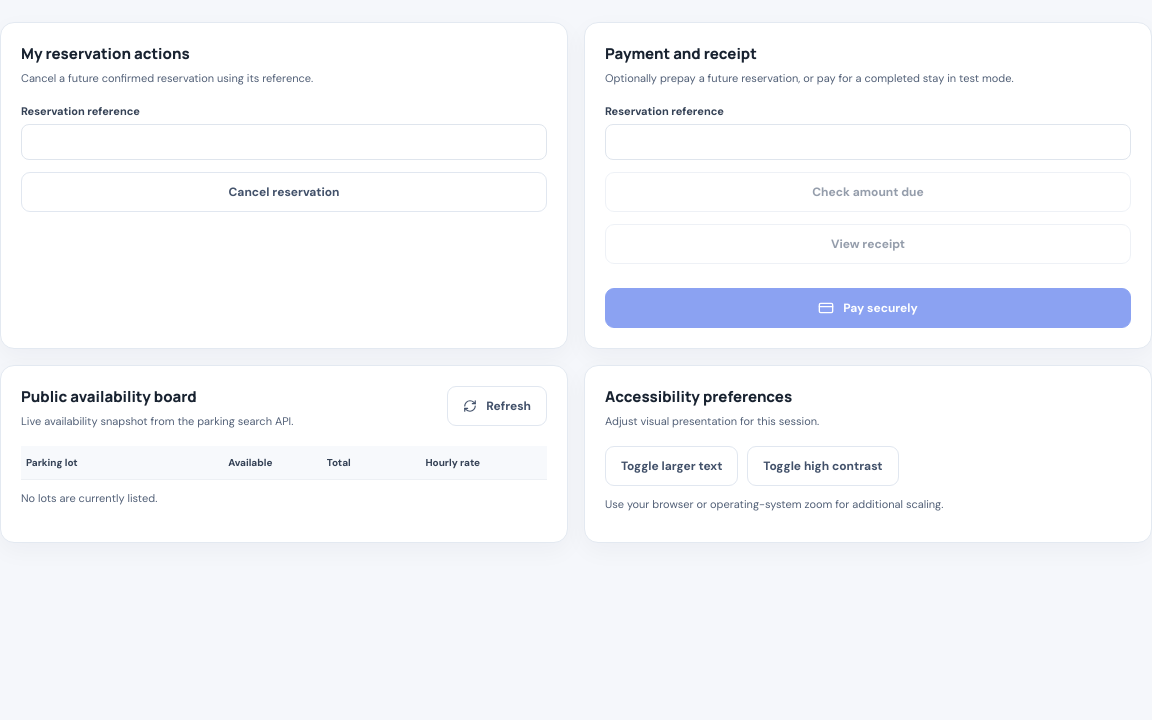
Scenario: collects a Stripe Elements token and sends only the token to the payment API
In the field labelled "Reservation reference" below "Payment and receipt": (868, 142) left=605, top=124, right=1131, bottom=160, type "reservation-1"
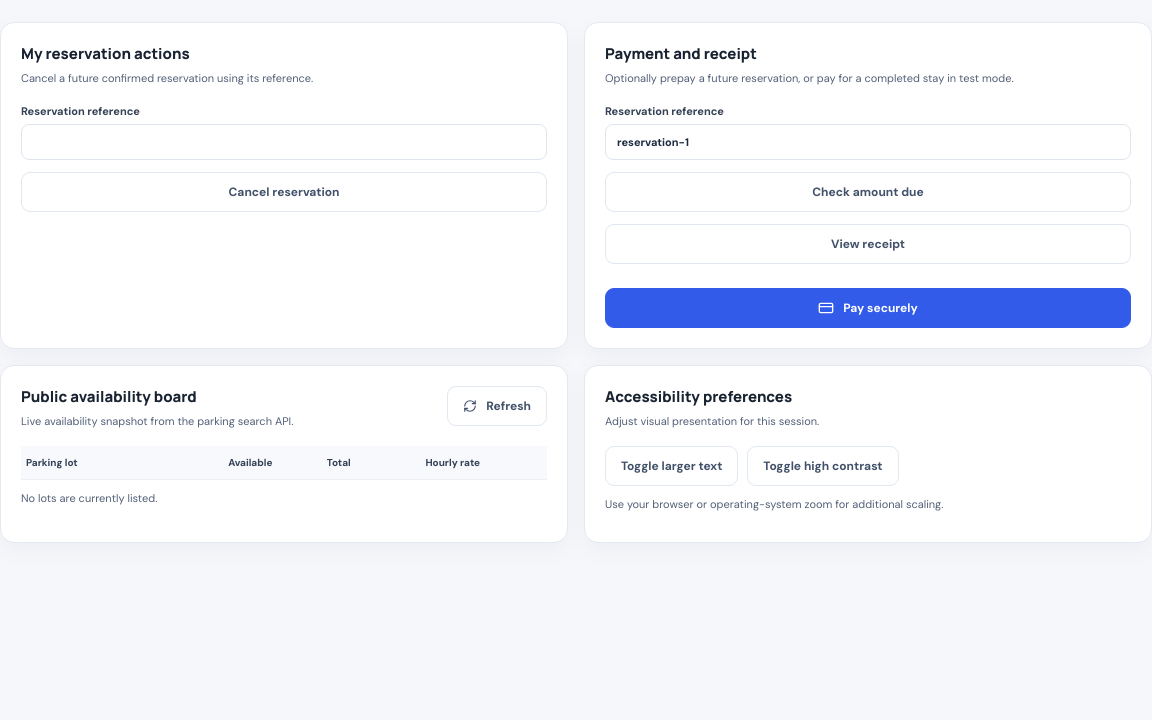
Now the button "Pay securely" is enabled
Click the button "Pay securely": (868, 308) left=605, top=288, right=1131, bottom=328
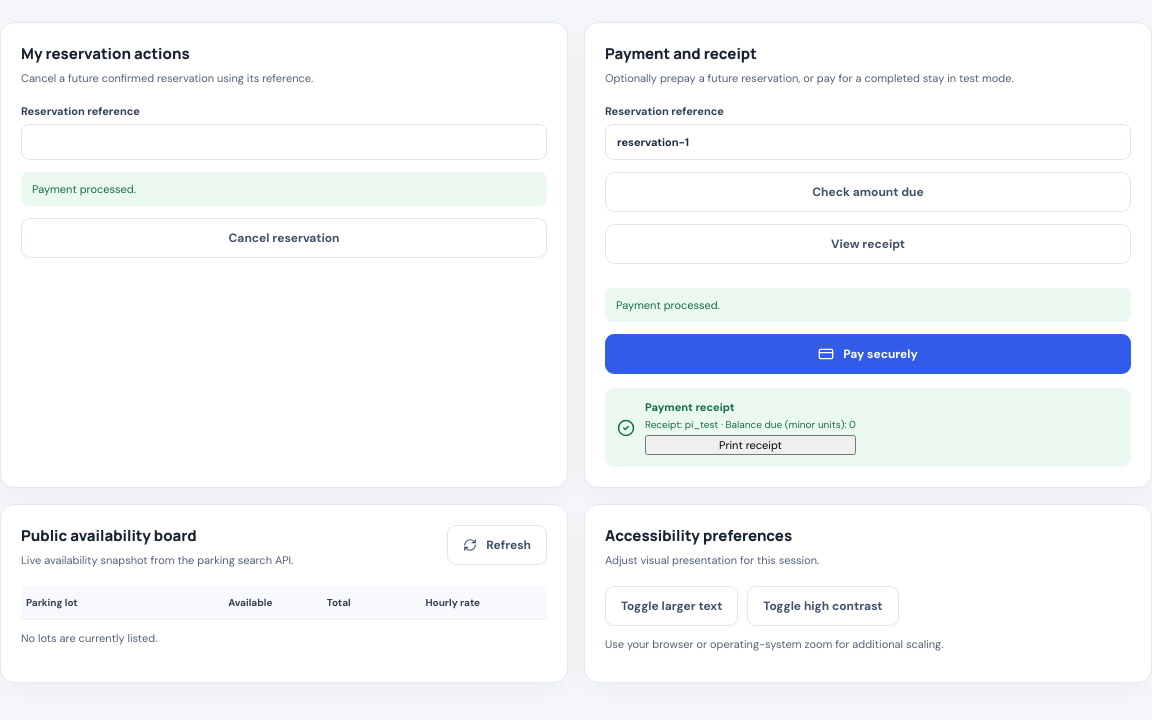
Now the text "Receipt: pi_test · Balance due (minor units): 0" is shown, box left=645, top=418, right=856, bottom=431
